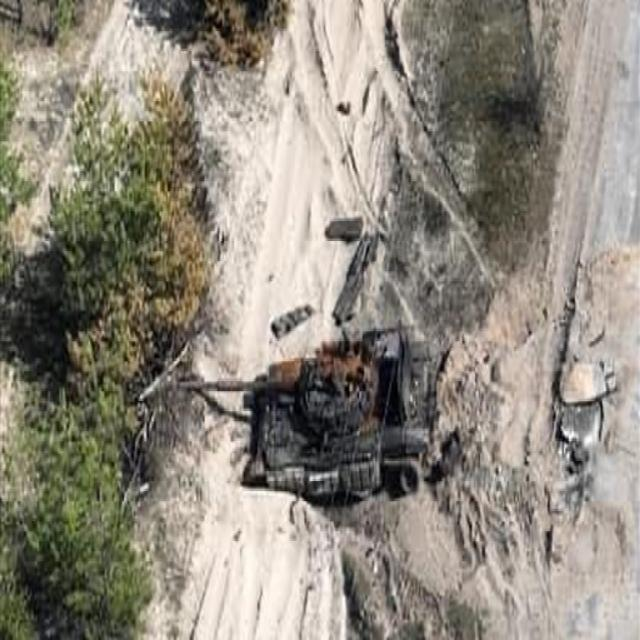TANK: (178, 306, 444, 518)
